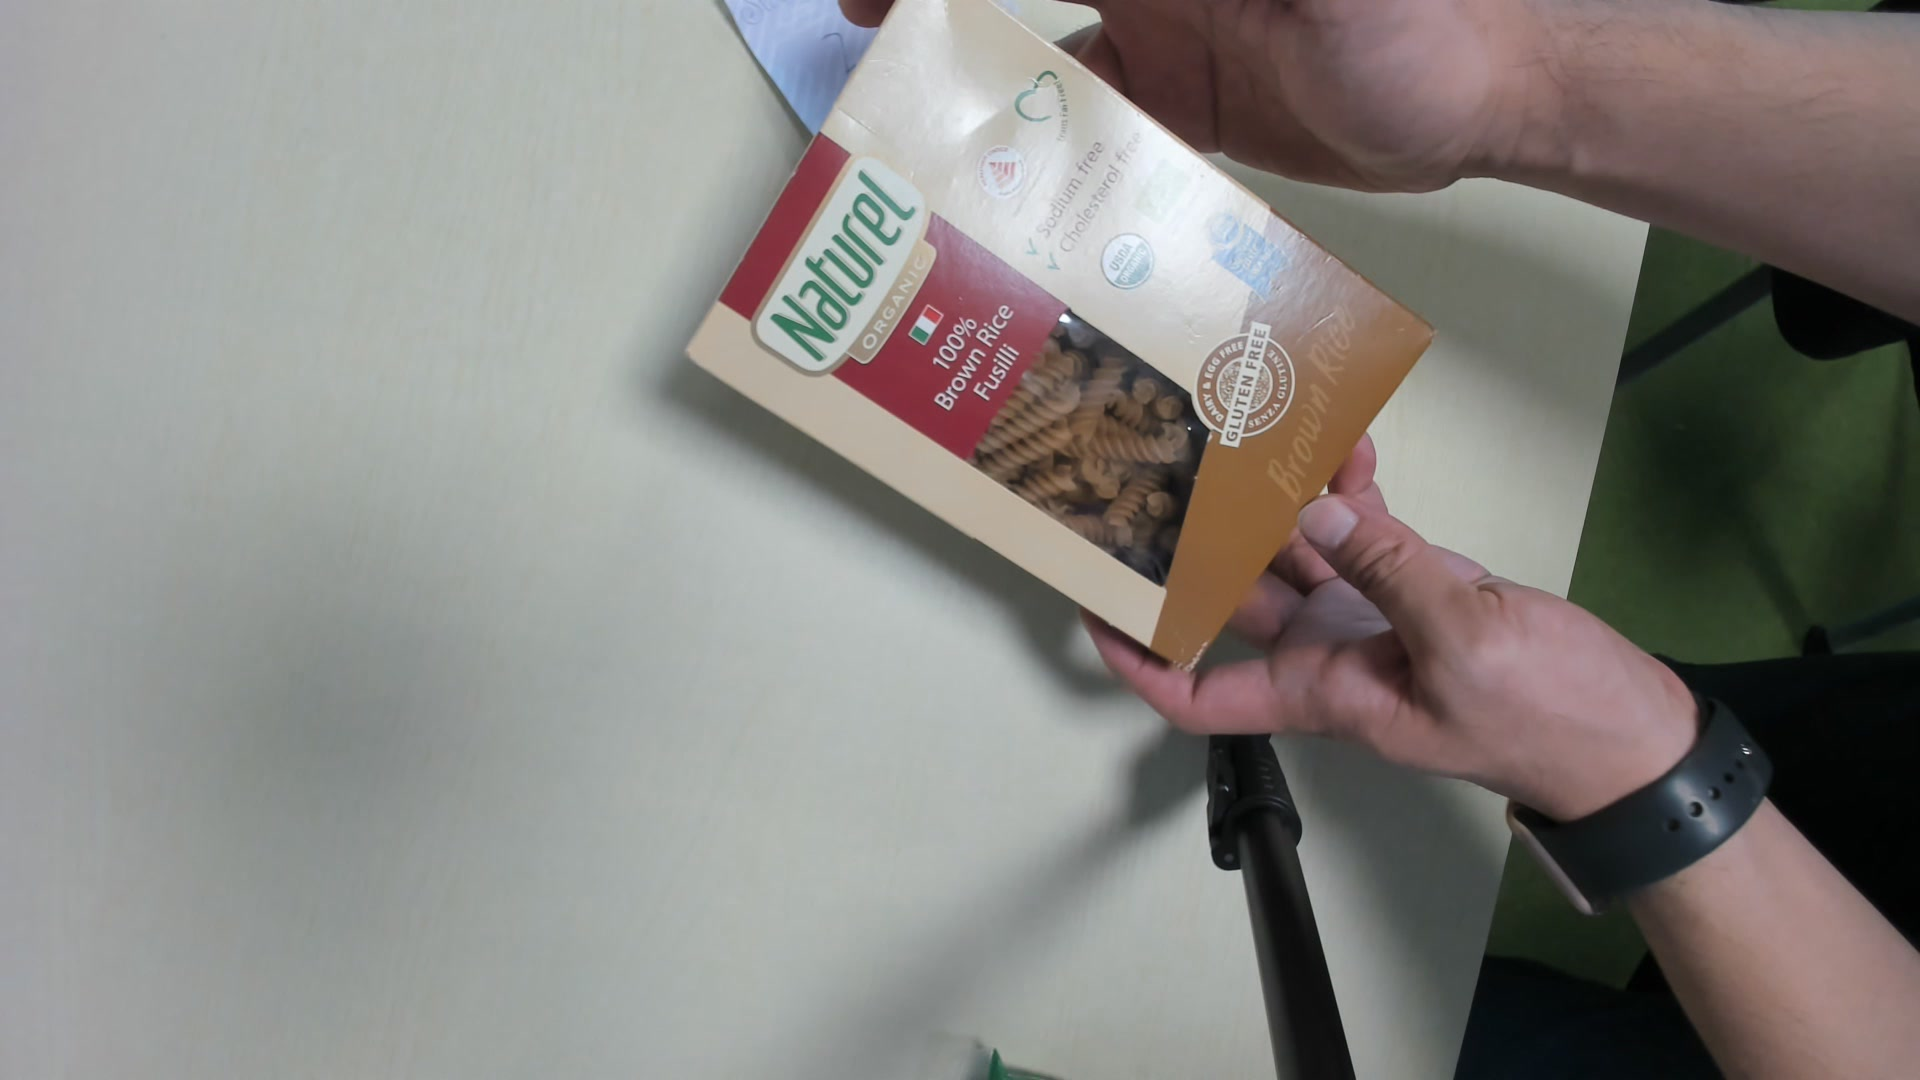Pasta_200-299g_Halal_Healthy: (687, 1, 1443, 667)
